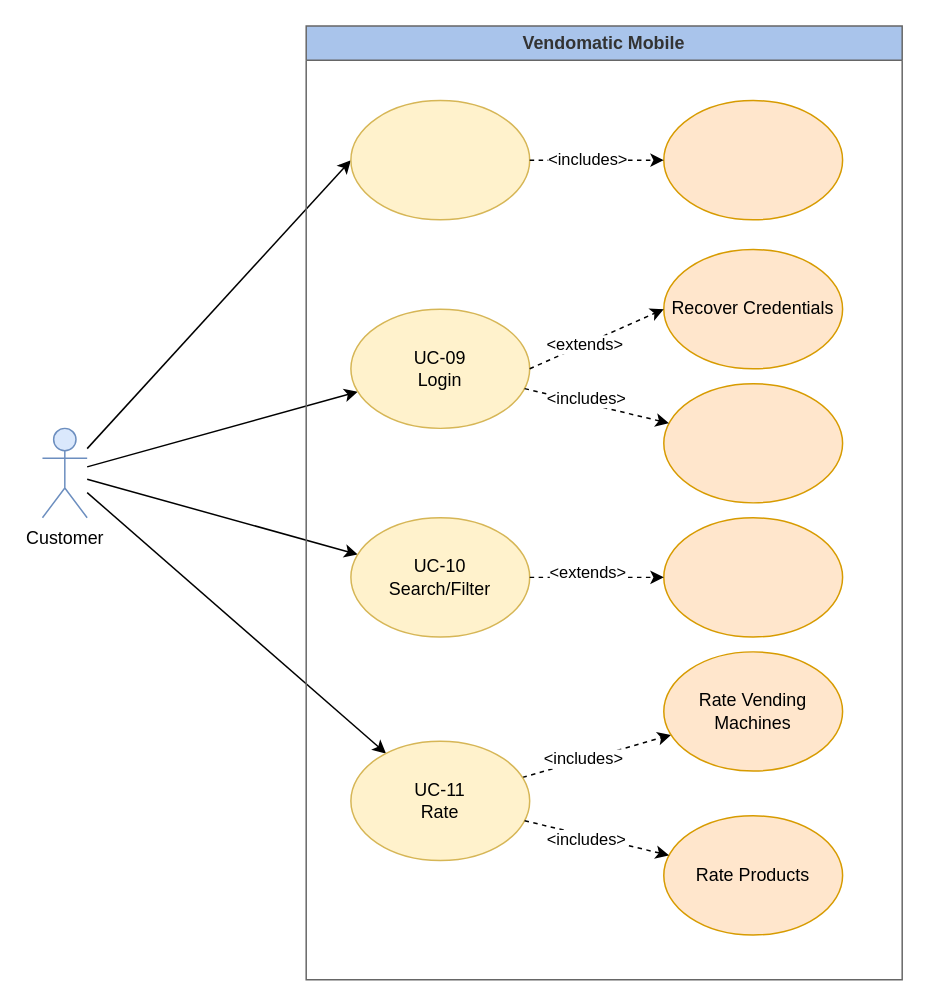
Some shapes in this 928 by 1006 pixel diagram are drawn without their labels. Each missing label, with the centre of its shape:
"Search Nearby" goes at point (752, 576).
"Social Login" goes at point (752, 442).
"Social Registration" goes at point (752, 159).
"UC-08 Register" goes at point (439, 159).
